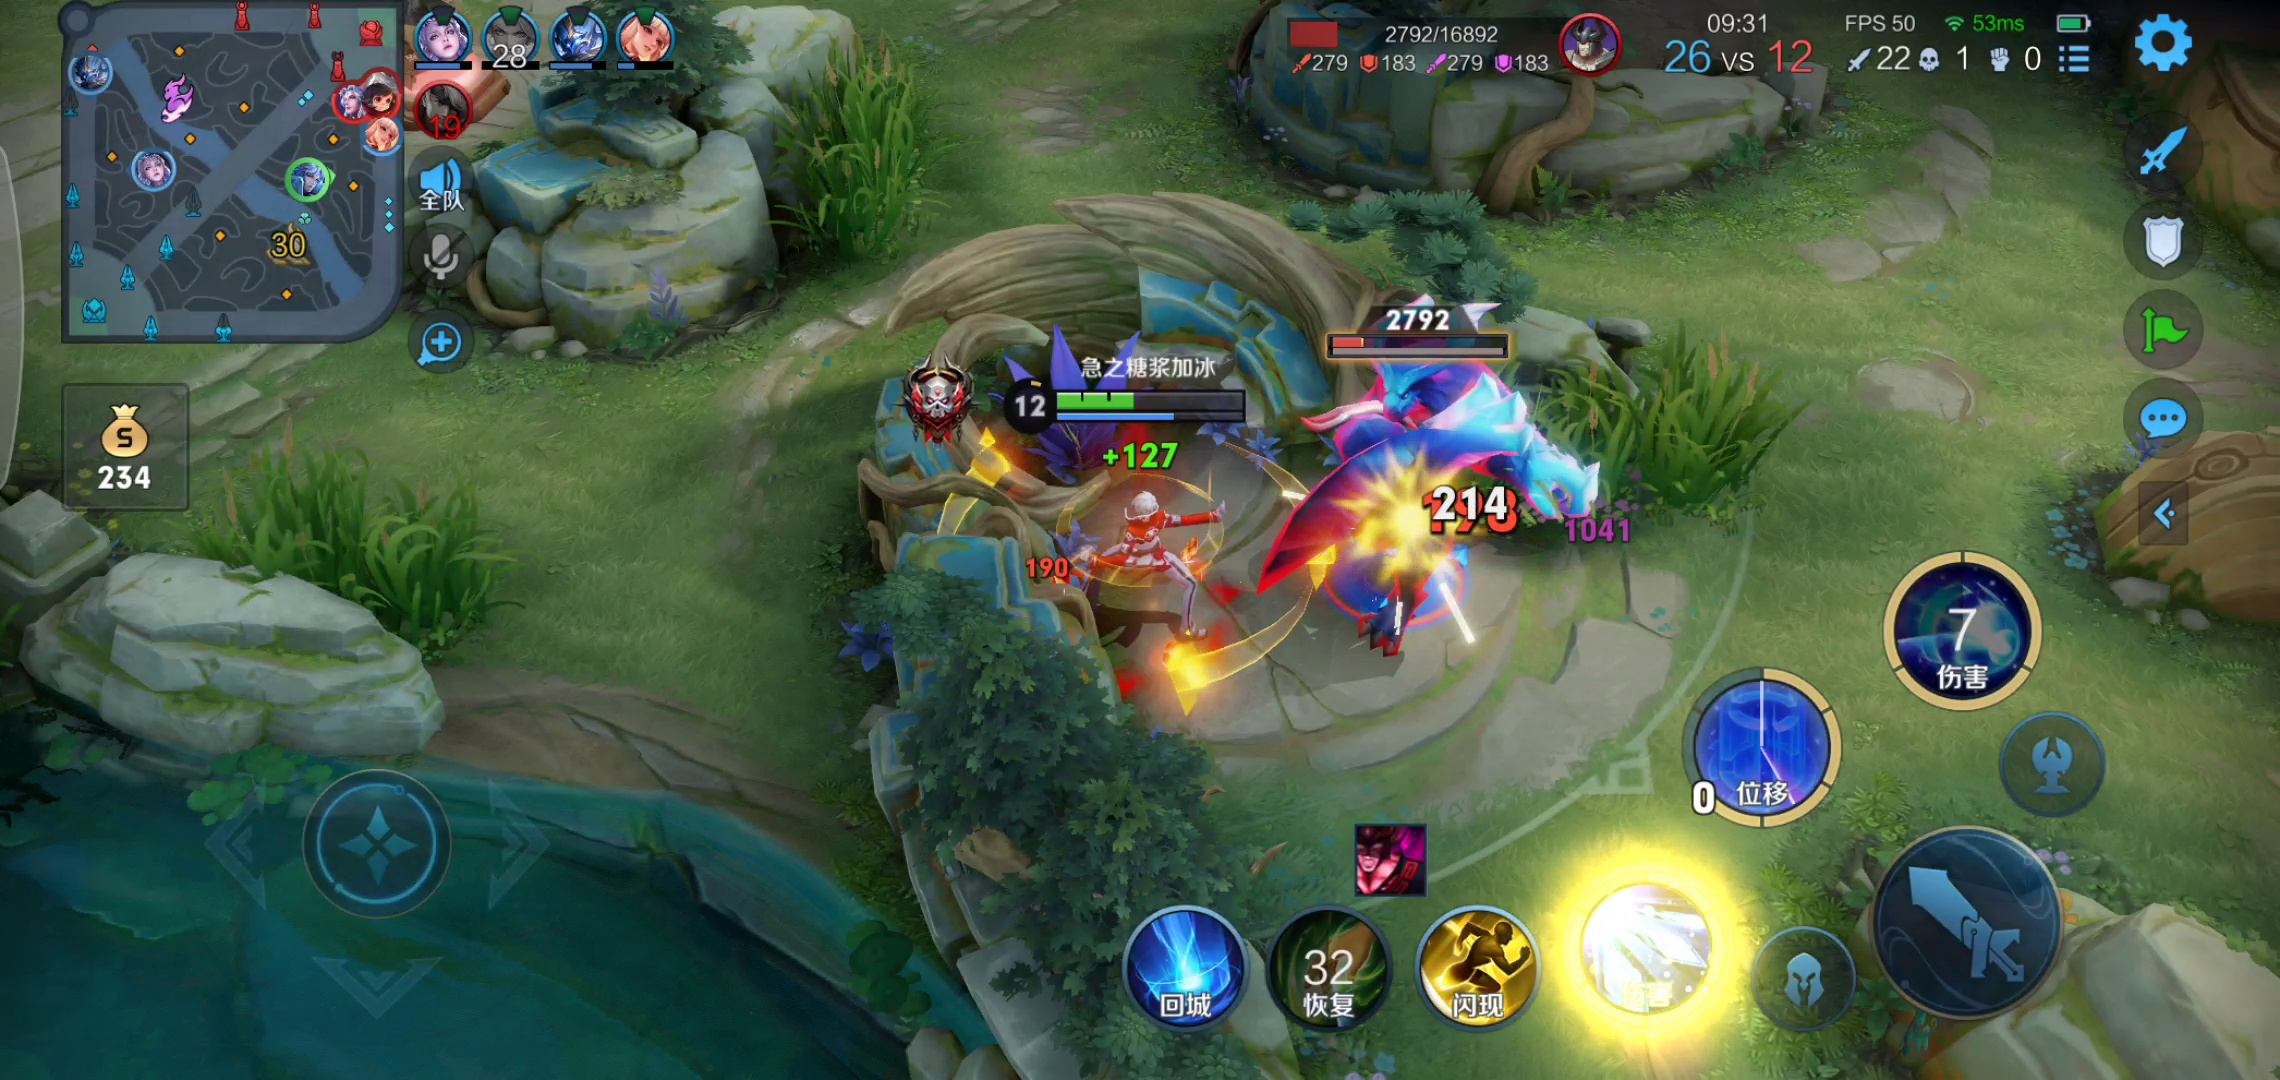buff: (1330, 375, 1549, 658)
grass: (195, 470, 500, 651), (1511, 349, 1774, 520), (742, 68, 955, 256)
hero: (1044, 459, 1253, 693)
